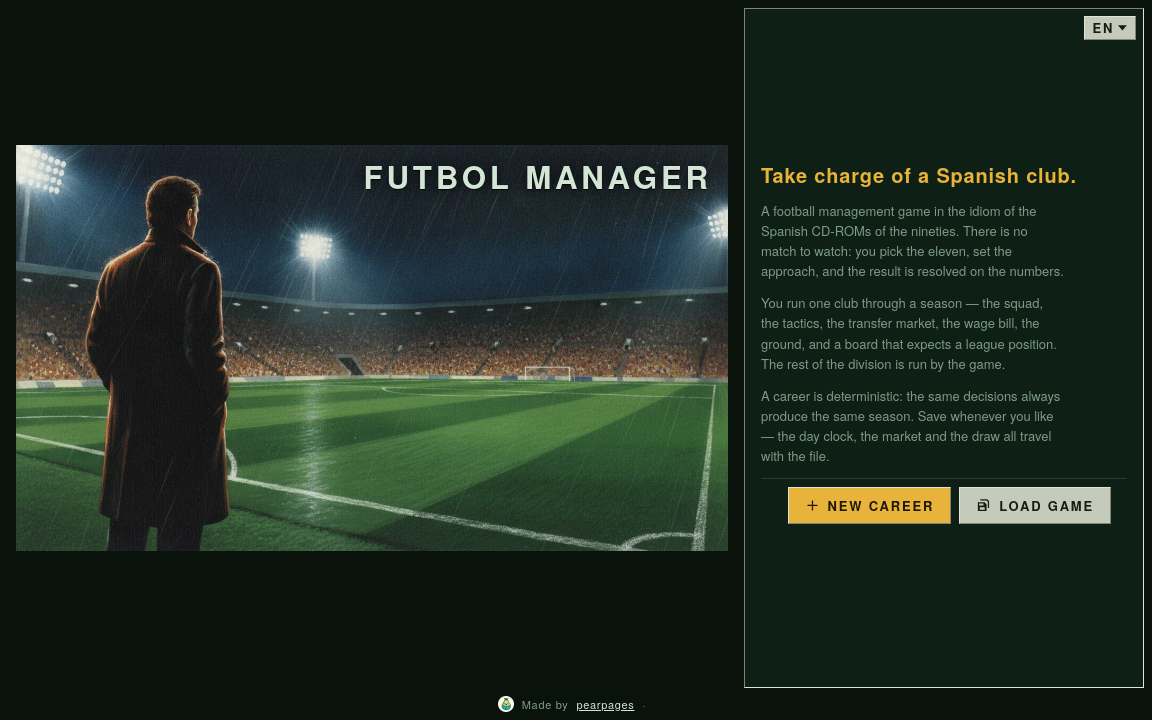
Scenario: starting a career › asks nothing at the door when no career is in memory
The width and height of the screenshot is (1152, 720).
Click the button "New career" at x=869, y=506, box [788, 487, 951, 524]
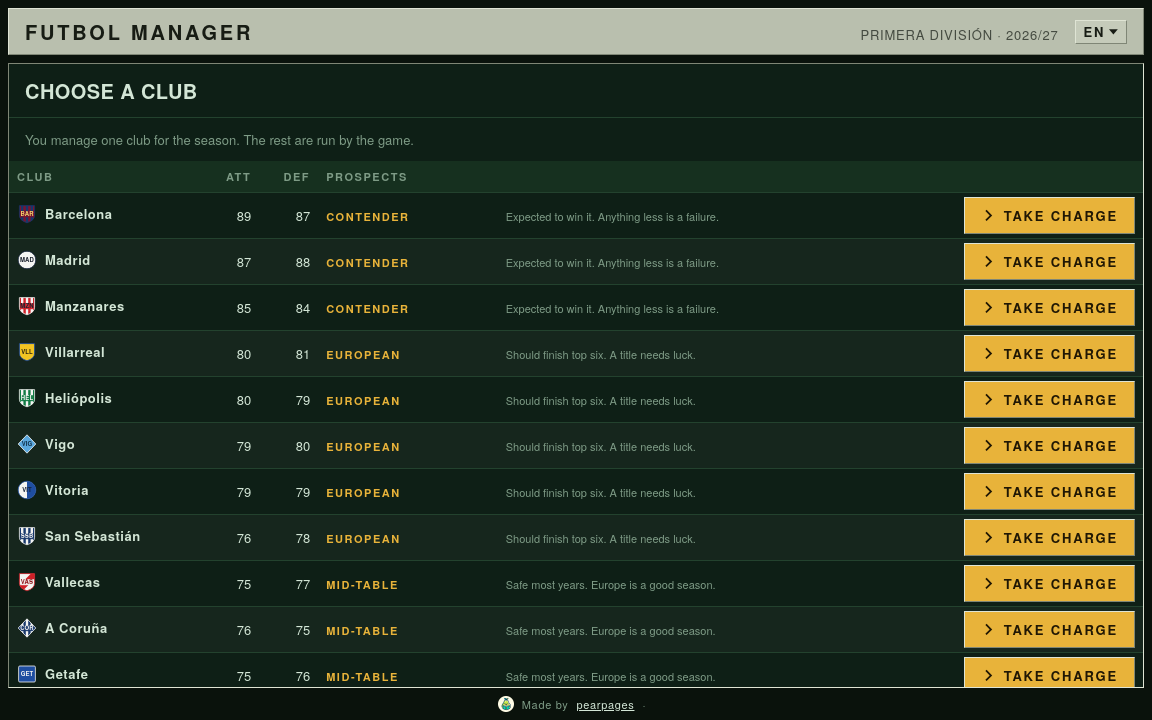
Expected: the heading "Choose a club" is shown, [9, 64, 1143, 118]
